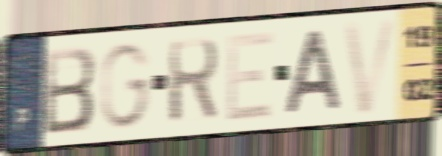A: (282, 27, 344, 118)
B: (42, 43, 99, 138)
E: (223, 27, 276, 125)
G: (98, 39, 154, 132)
R: (166, 34, 222, 126)
V: (340, 14, 402, 118)
